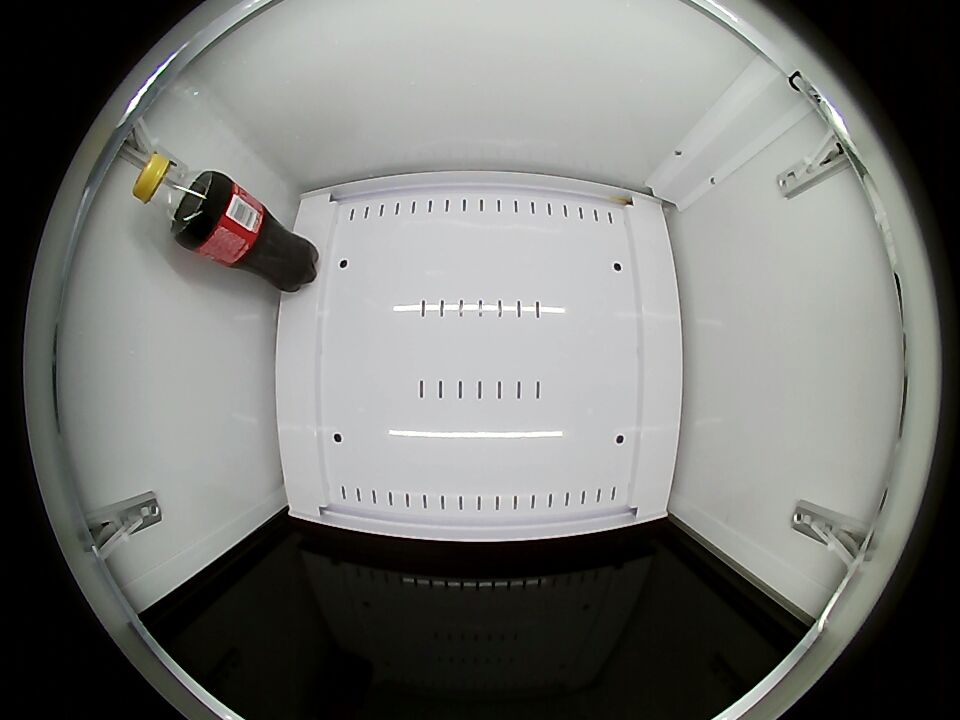kele-b-2: (132, 153, 220, 241)
